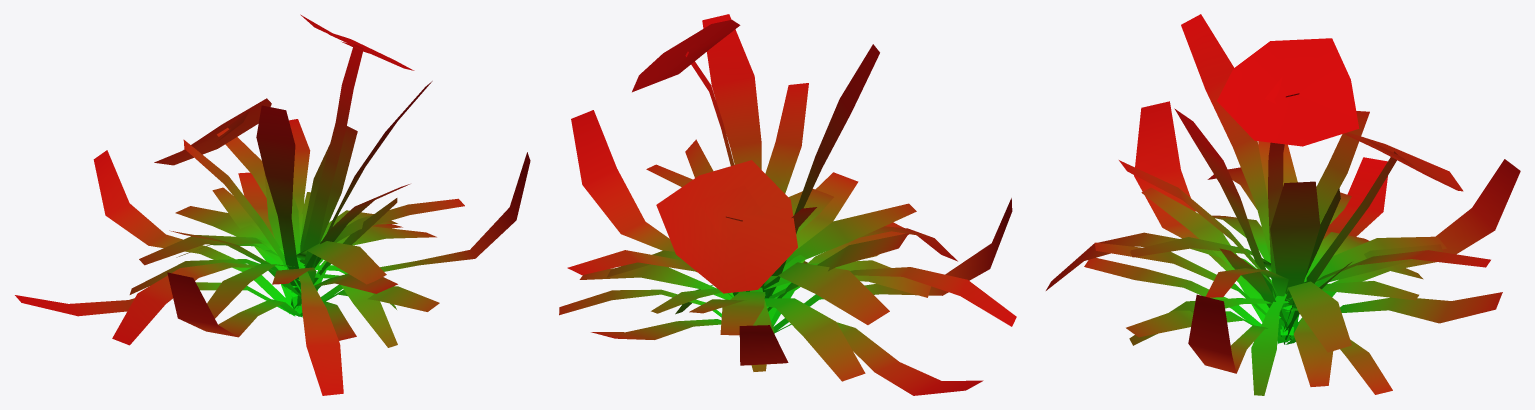
File: Var2_LOD2.fbx
The picture shows the model from 3 angles, left to right: view 1: azimuth 30°, elevation 25°; view 2: azimuth 150°, elevation 25°; view 3: azimuth 270°, elevation 25°; orthographic projection. The views are drawn at different scales.
Parts seen in each view (by area): view 1: _ee69_Var2_LOD2; view 2: _ee69_Var2_LOD2; view 3: _ee69_Var2_LOD2.
Boxes of the visible parts, box(x1,y1,x2,y2) form: _ee69_Var2_LOD2: box(15, 14, 530, 395); _ee69_Var2_LOD2: box(559, 14, 1016, 395); _ee69_Var2_LOD2: box(1046, 14, 1520, 395).
Bounding box in the file's own units: 45.07 × 27.81 × 37.21.
